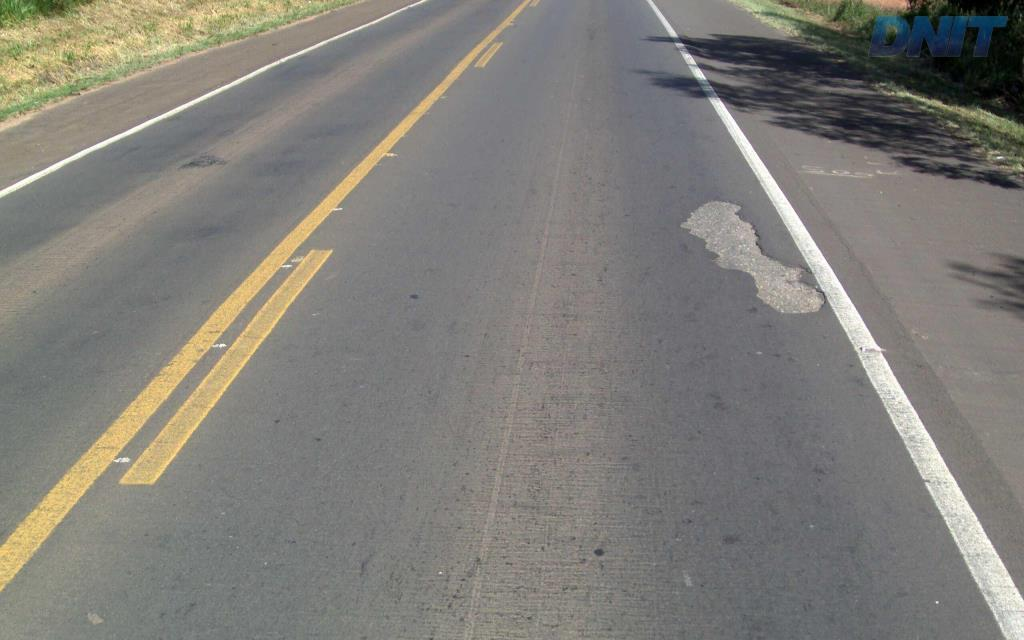pothole: (677, 193, 829, 323)
